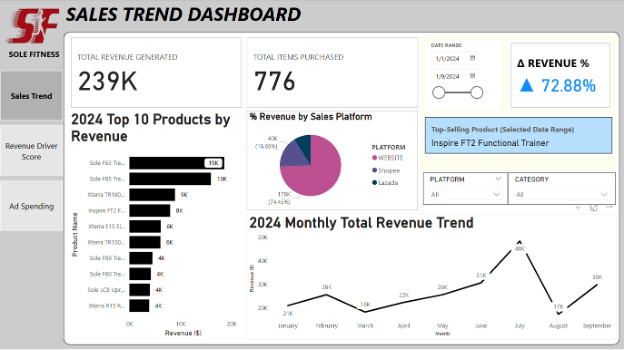

What the dashboard file says about the page in this screenshot:
{"tool":"powerbi","page":{"name":"Sales Trend","canvas":[1280,720],"ordinal":0},"visuals":[{"type":"shape","box":[0,0,1280,720.6],"z":0},{"type":"shape","box":[129.9,67.1,1140.2,642.1],"z":1000},{"type":"textbox","box":[129.9,0,973.2,74.2],"z":2000},{"type":"image","box":[0,0,129.9,134.1],"z":3000},{"type":"shape","box":[0,95.6,129.9,45.7],"z":3500},{"type":"textbox","box":[0,97,139.8,37.1],"z":4000},{"type":"shape","box":[862.1,74.7,402.8,277.6],"z":5000},{"type":"cardVisual","fields":{"Data":["Sum(RAW DATA.ITEM REVENUE)"]},"box":[140.3,74.7,360.4,154.4],"z":6000},{"type":"cardVisual","fields":{"Data":["Sum(RAW DATA.ITEMS PURCHASED)"]},"box":[500.7,74.7,361.4,154.4],"z":7000},{"type":"clusteredBarChart","title":"2024 Top 10 Products by Revenue","fields":{"Y":["Sum(RAW DATA.ITEM REVENUE)"],"Category":["RAW DATA.ITEM NAME"]},"box":[140.3,229.1,360.4,469.4],"z":8000},{"type":"lineChart","title":"2024 Monthly Total Revenue Trend","fields":{"Category":["RAW DATA.MONTH.Variation.Date Hierarchy.Month"],"Y":["Sum(RAW DATA.ITEM REVENUE)"]},"box":[505.7,441.1,758.1,257.4],"z":9000},{"type":"slicer","fields":{"Values":["RAW DATA.CATEGORY 2"]},"box":[1041.8,356.3,220.1,66.6],"z":10000},{"type":"slicer","fields":{"Values":["RAW DATA.PLATFORM"]},"box":[867.1,356.3,173.6,66.6],"z":11000},{"type":"slicer","fields":{"Values":["RAW DATA.MONTH"]},"box":[871.2,83.8,156.5,145.4],"z":12000},{"type":"cardVisual","fields":{"Data":["RAW DATA.Revenue % Indicator"]},"box":[1040.8,83.8,216,145.4],"z":13000},{"type":"pieChart","title":"% Revenue by Sales Platform","fields":{"Category":["RAW DATA.PLATFORM"],"Y":["Sum(RAW DATA.ITEM REVENUE)"]},"box":[505.7,229.1,350.3,203.9],"z":14000},{"type":"cardVisual","fields":{"Data":["RAW DATA.Top Product"]},"box":[866.1,237.2,394.7,85.8],"z":15000},{"type":"bookmarkNavigator","box":[0,146.4,129.7,330.1],"z":16000}]}

Visuals, with their boxes on the page's 1280x720 design canvas (x1, y1, x2, y2). These are canvas units, not pixel positions in the 624x350 screenshot, which may show the page scaled, cropped or inside an application window:
shape: {"left": 0, "top": 0, "right": 1280, "bottom": 721}
shape: {"left": 130, "top": 67, "right": 1270, "bottom": 709}
textbox: {"left": 130, "top": 0, "right": 1103, "bottom": 74}
image: {"left": 0, "top": 0, "right": 130, "bottom": 134}
shape: {"left": 0, "top": 96, "right": 130, "bottom": 141}
textbox: {"left": 0, "top": 97, "right": 140, "bottom": 134}
shape: {"left": 862, "top": 75, "right": 1265, "bottom": 352}
cardVisual - Sum(RAW DATA.ITEM REVENUE): {"left": 140, "top": 75, "right": 501, "bottom": 229}
cardVisual - Sum(RAW DATA.ITEMS PURCHASED): {"left": 501, "top": 75, "right": 862, "bottom": 229}
"2024 Top 10 Products by Revenue" clusteredBarChart: {"left": 140, "top": 229, "right": 501, "bottom": 698}
"2024 Monthly Total Revenue Trend" lineChart: {"left": 506, "top": 441, "right": 1264, "bottom": 698}
slicer - RAW DATA.CATEGORY 2: {"left": 1042, "top": 356, "right": 1262, "bottom": 423}
slicer - RAW DATA.PLATFORM: {"left": 867, "top": 356, "right": 1041, "bottom": 423}
slicer - RAW DATA.MONTH: {"left": 871, "top": 84, "right": 1028, "bottom": 229}
cardVisual - RAW DATA.Revenue % Indicator: {"left": 1041, "top": 84, "right": 1257, "bottom": 229}
"% Revenue by Sales Platform" pieChart: {"left": 506, "top": 229, "right": 856, "bottom": 433}
cardVisual - RAW DATA.Top Product: {"left": 866, "top": 237, "right": 1261, "bottom": 323}
bookmarkNavigator: {"left": 0, "top": 146, "right": 130, "bottom": 476}
